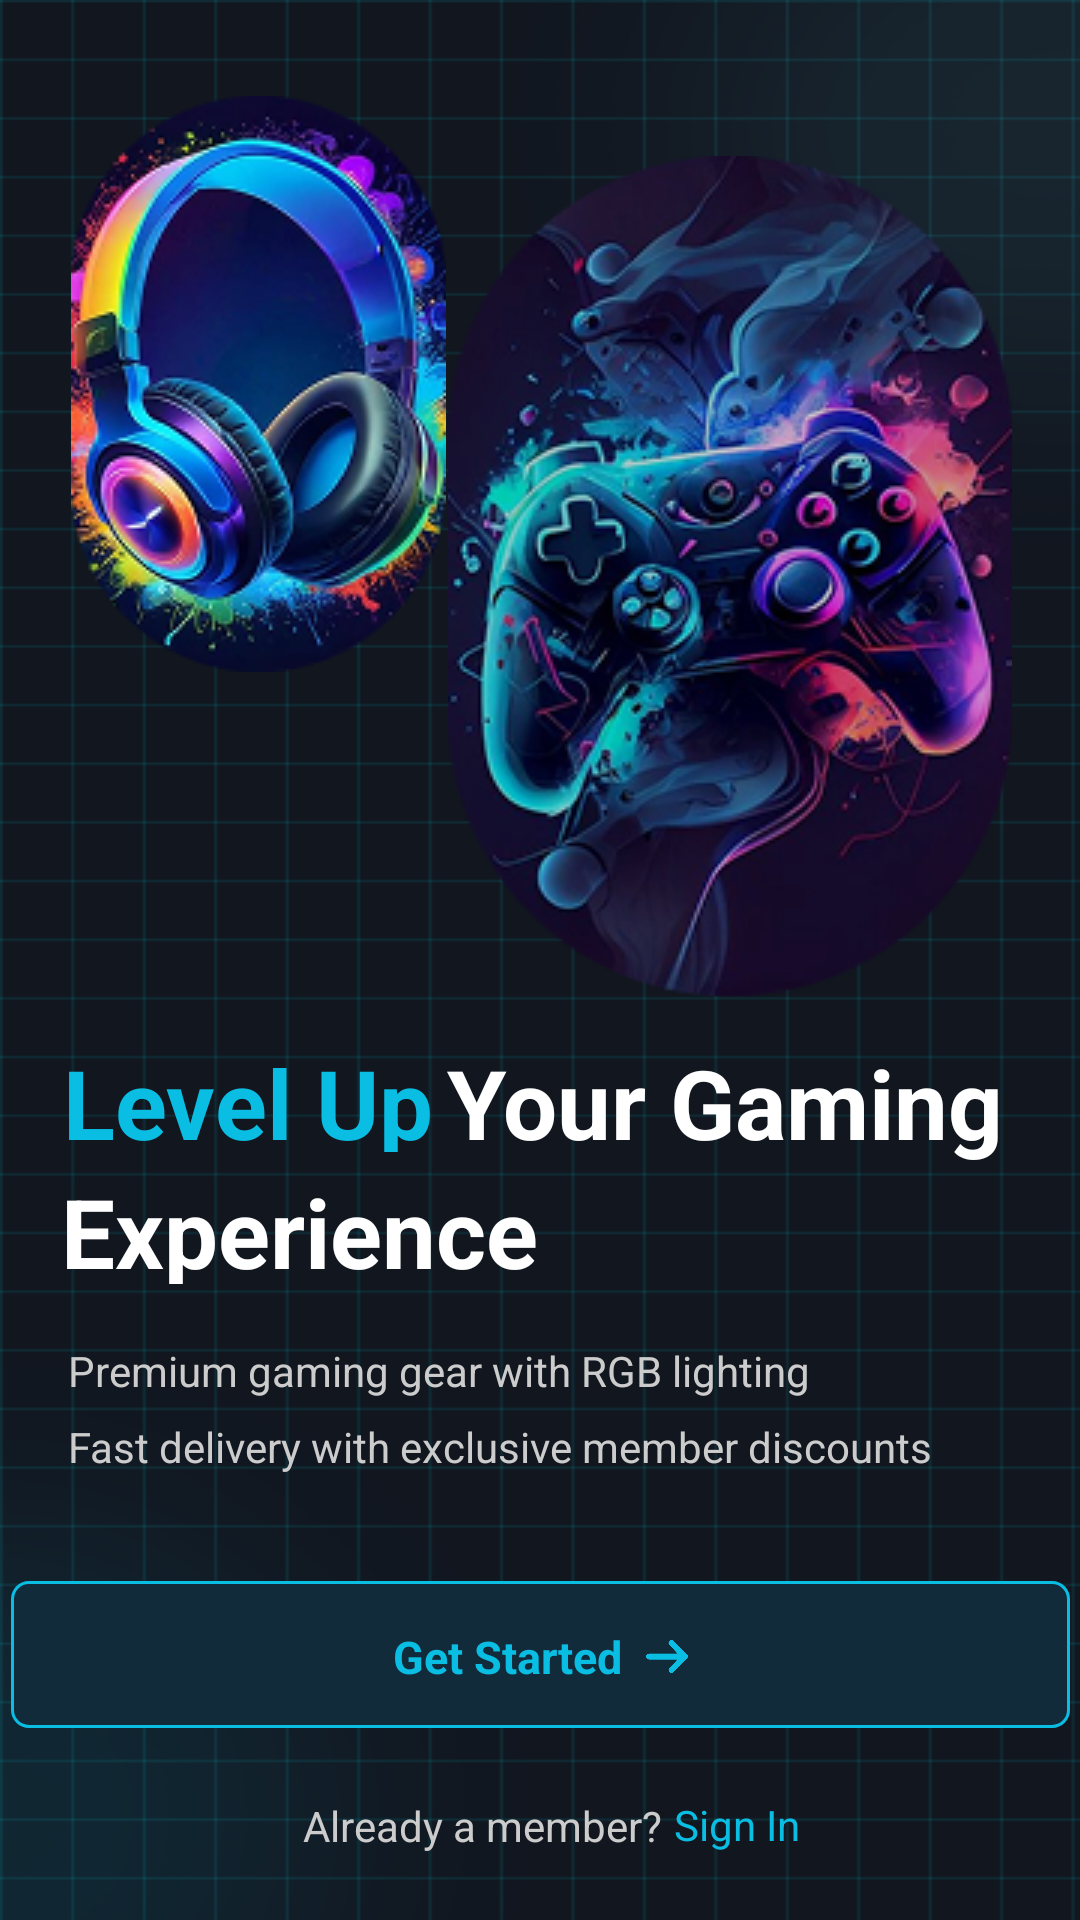

Where icons sit on this 1080px x 1920px app screen, as (x1, y1, x2, y2):
muitenphai: (646, 1640, 688, 1673)
